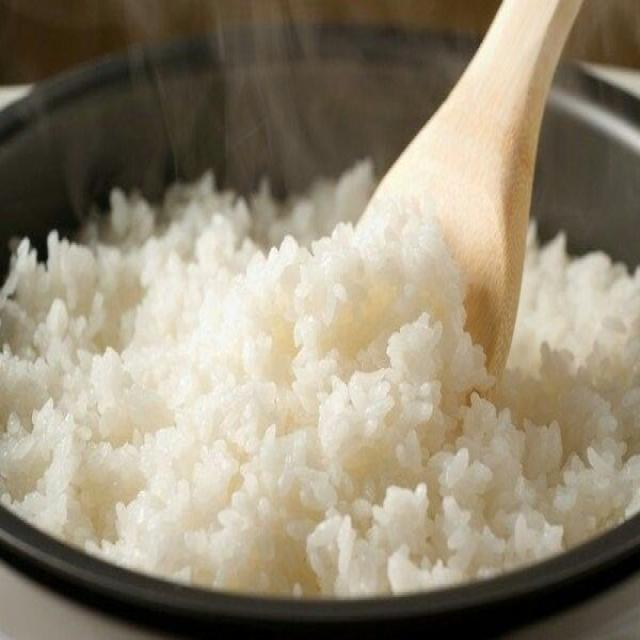rice: (0, 164, 639, 596)
